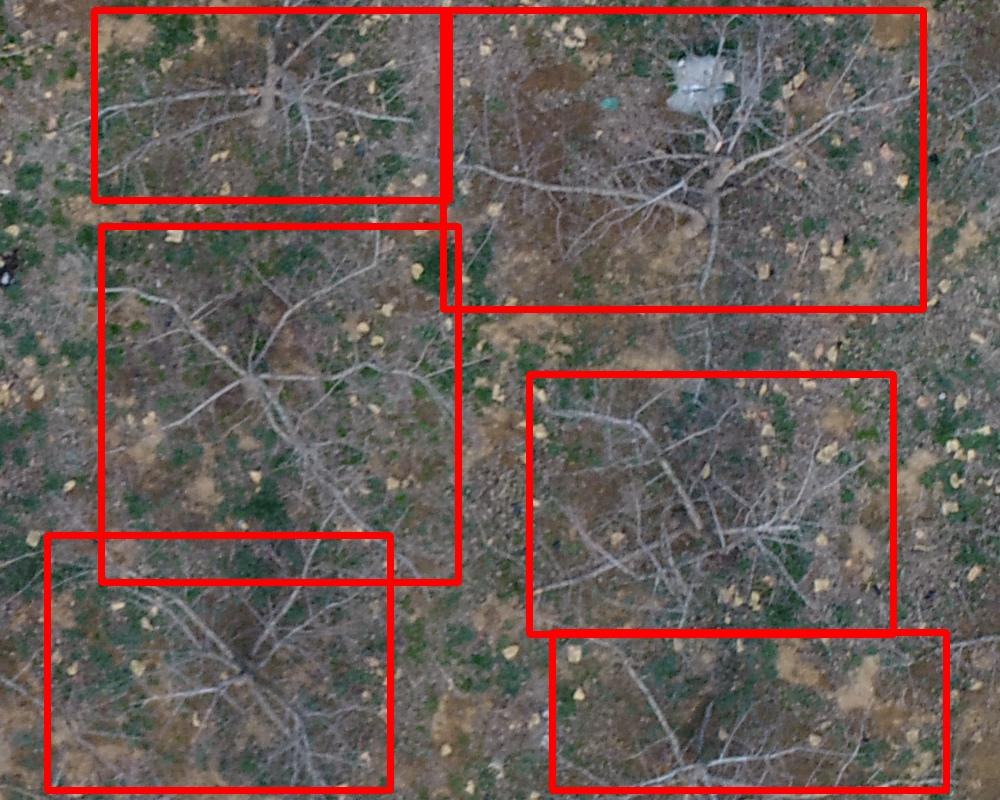apple: (443, 10, 923, 309), (101, 226, 458, 582), (529, 374, 893, 634), (47, 535, 390, 790), (94, 10, 449, 200), (552, 632, 946, 790)
